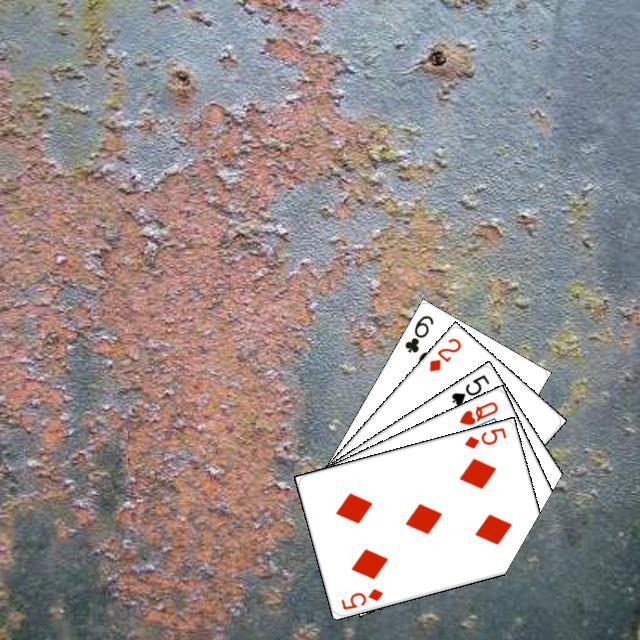2d: (424, 333, 463, 373)
5d: (459, 423, 508, 450), (336, 584, 385, 611)
5s: (446, 370, 491, 407)
6c: (400, 310, 435, 354)
Qh: (454, 396, 500, 427)
